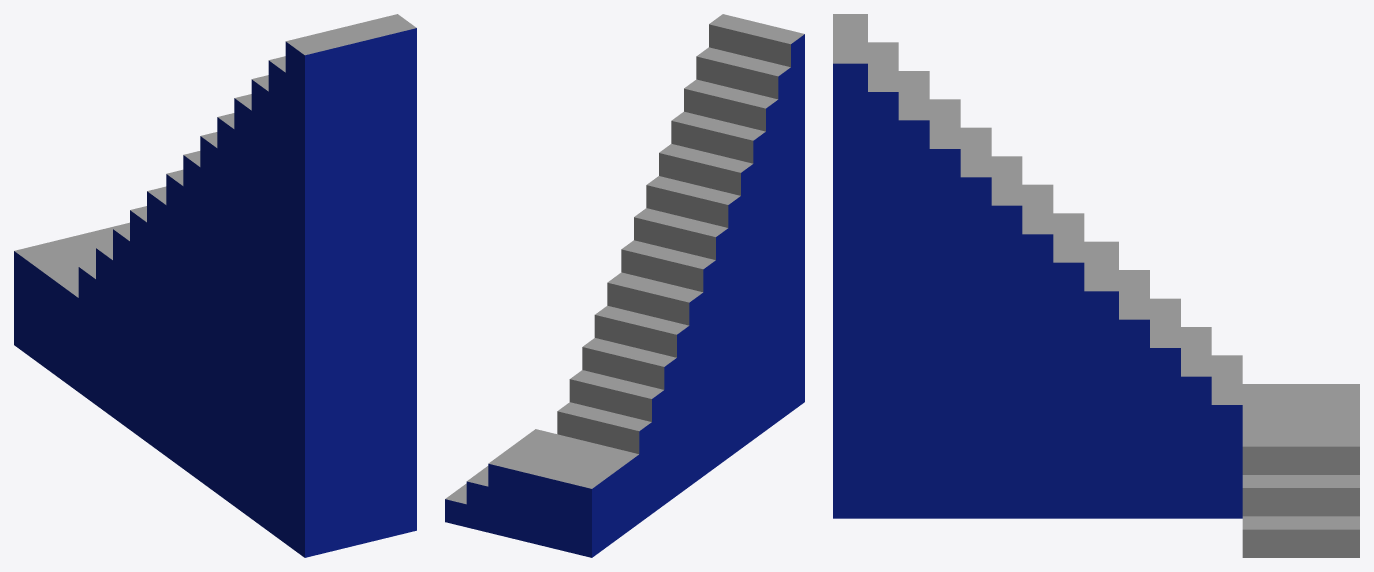
Rendered from Stairs_02.fbx.
3 renders of one model, left to right at view 1: azimuth 30°, elevation 25°; view 2: azimuth 150°, elevation 25°; view 3: azimuth 270°, elevation 25°, orthographic. The views are drawn at different scales.
Parts seen in each view (by area): view 1: Stairs_02; view 2: Stairs_02; view 3: Stairs_02.
Part boxes in pixels (x1,y1,x2,y2): Stairs_02: (14, 14, 416, 557); Stairs_02: (445, 14, 804, 557); Stairs_02: (833, 14, 1359, 557).
Bounding box in the file's own units: 1.25 × 3.15 × 3.
